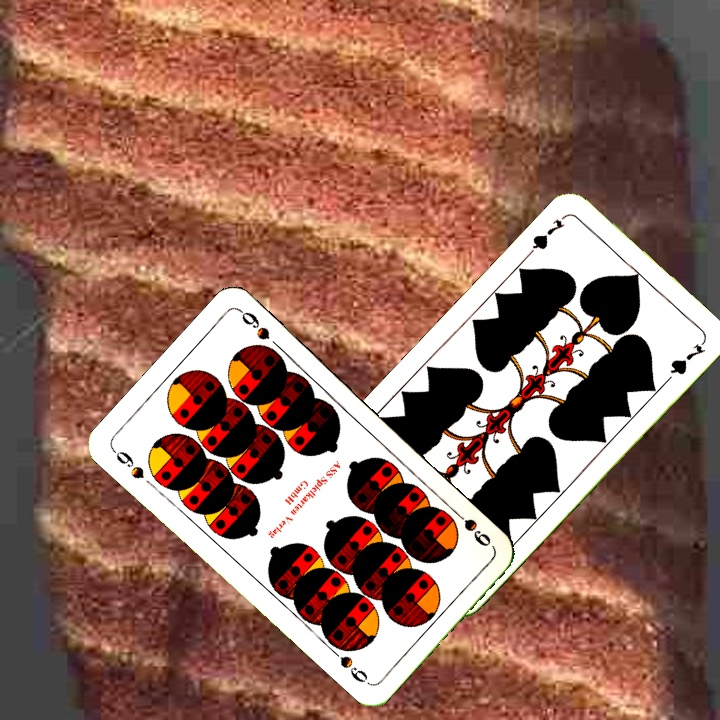G7: (525, 210, 570, 257)
S9: (447, 504, 494, 549), (108, 445, 147, 482)
